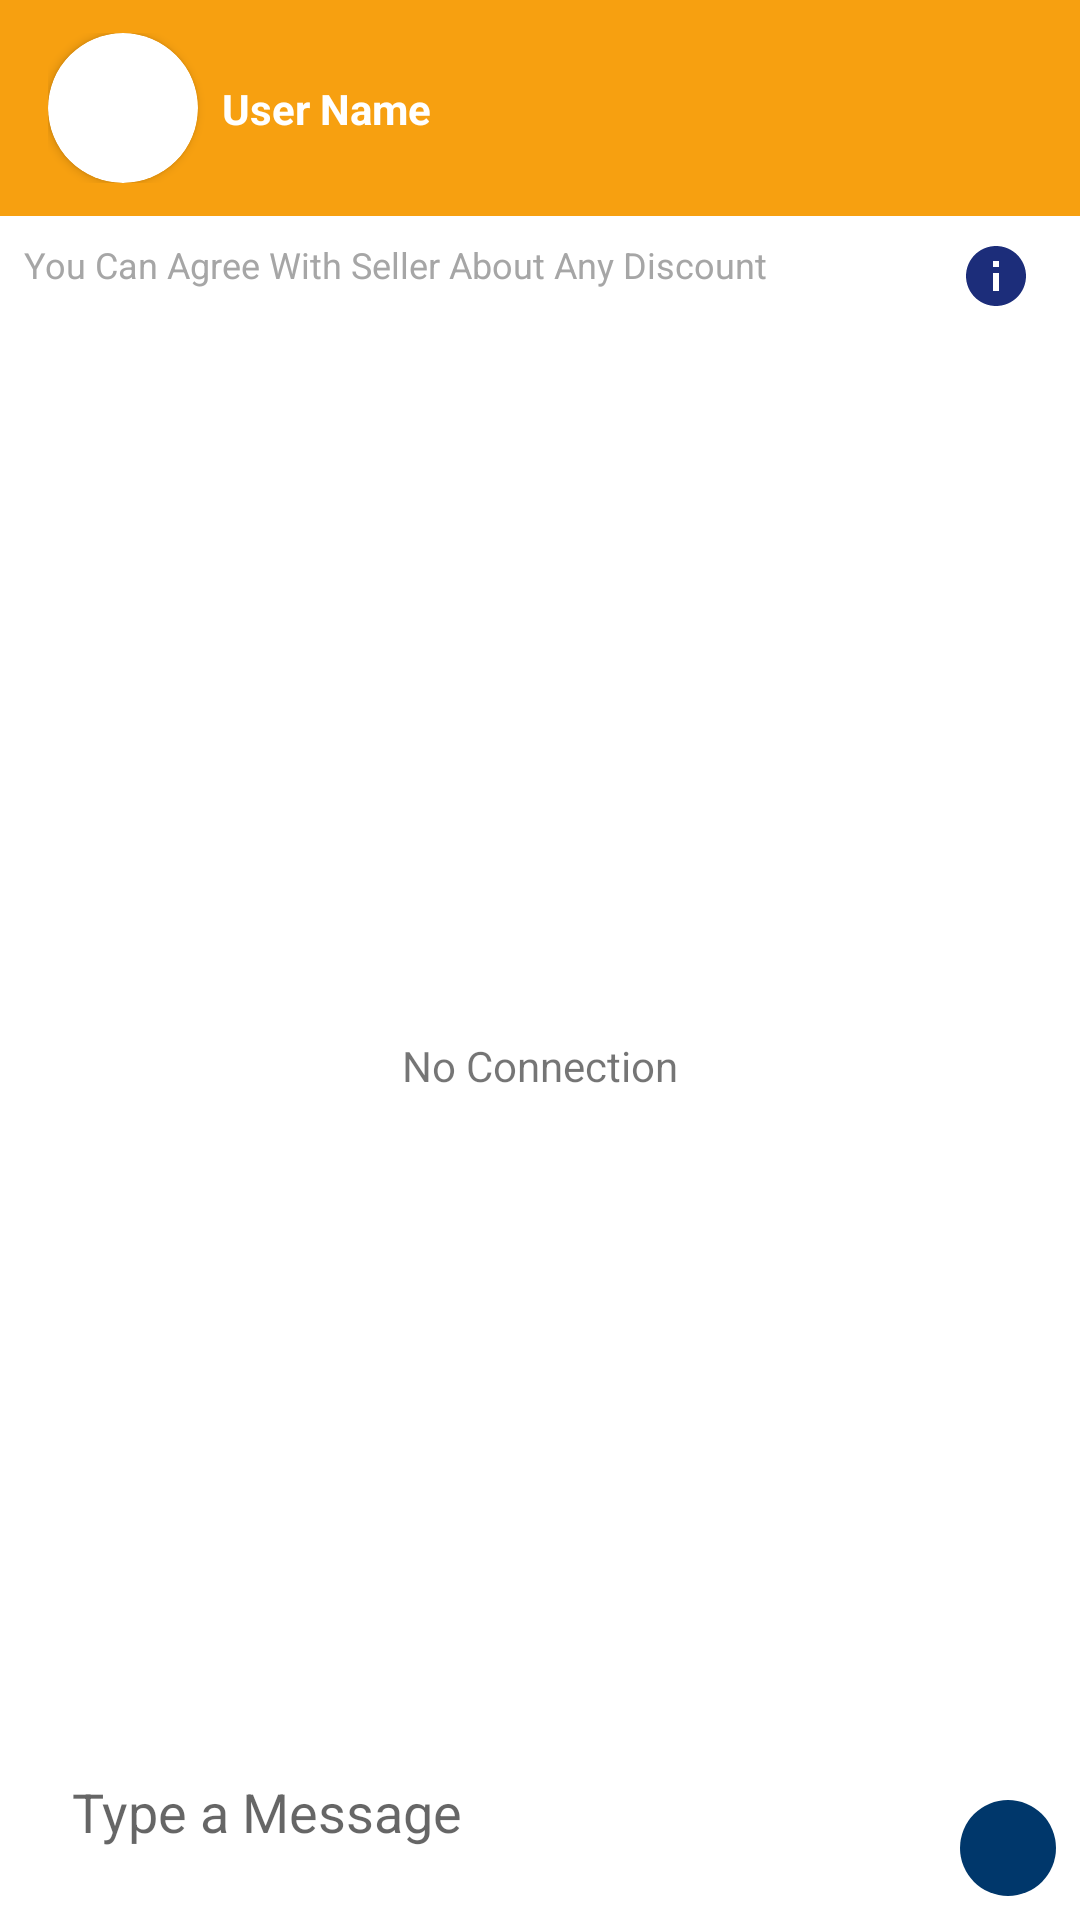

Screen size 1080 x 1920. Icon name, then its center in pixels as point (x, y):
info: point (996, 276)
